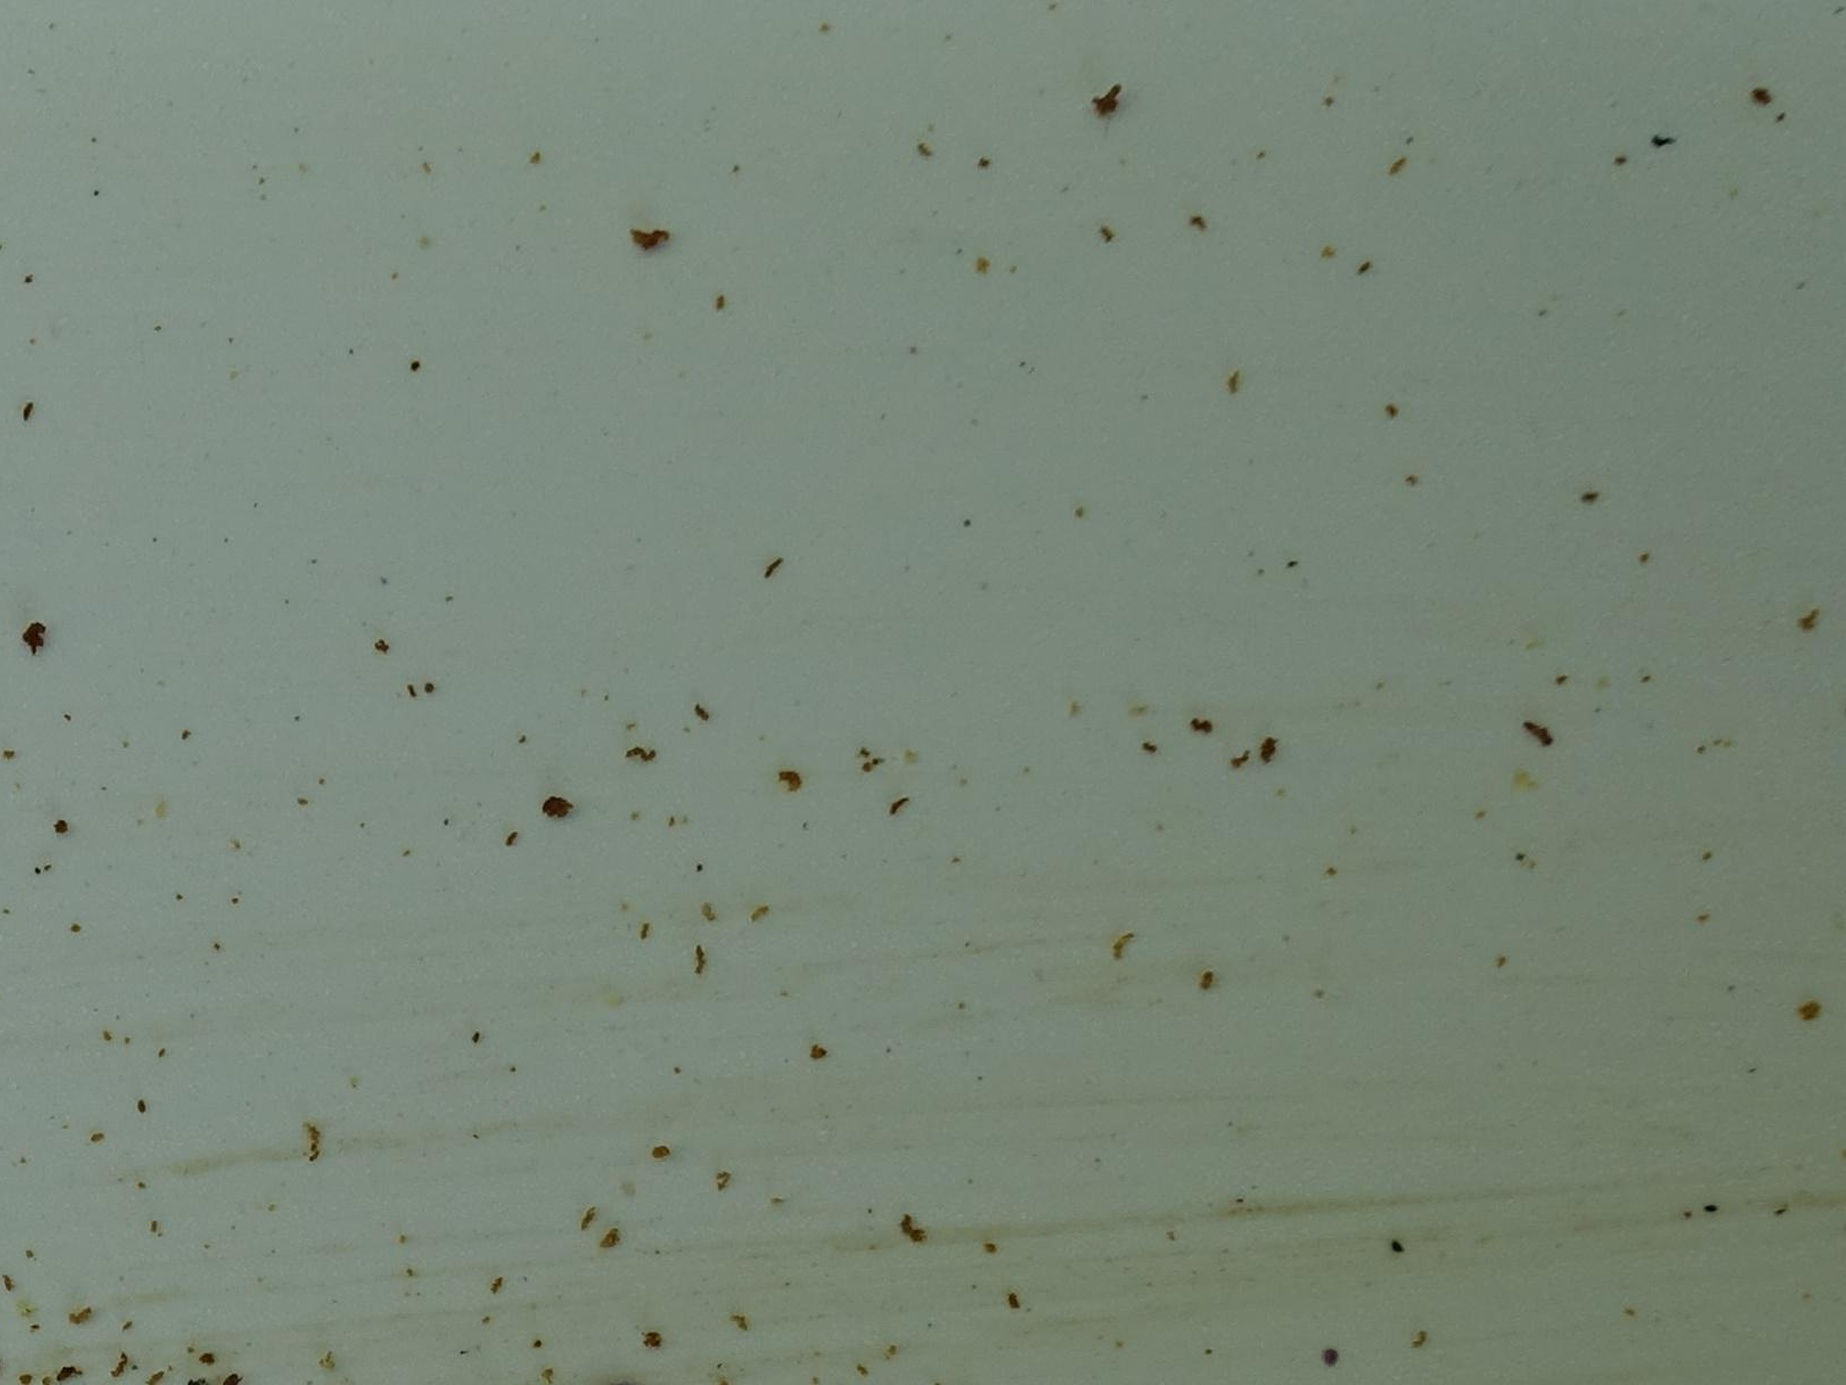Varroa: (532, 783, 575, 823)
